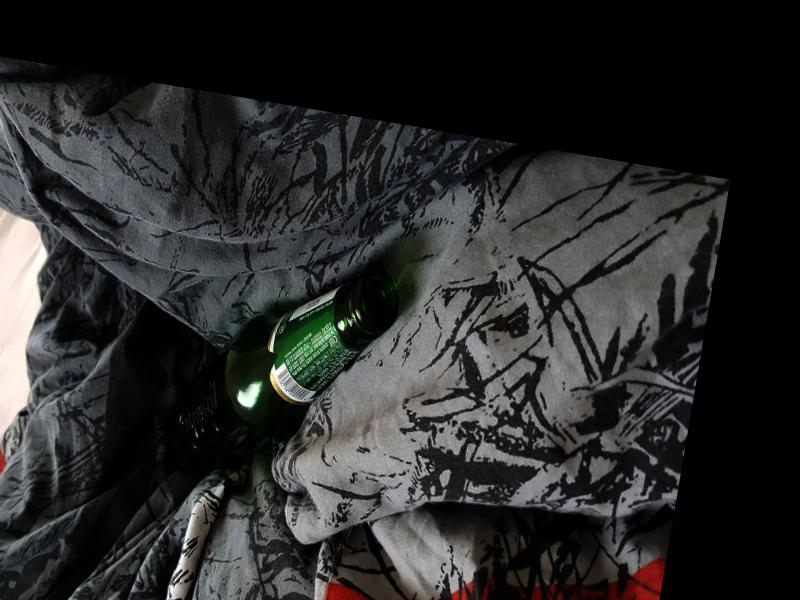Beer: (159, 241, 404, 507)
